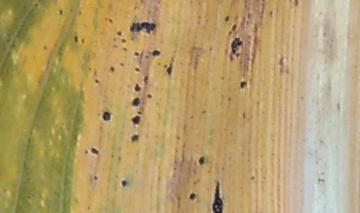tarspot: (130, 20, 156, 35), (212, 180, 223, 213), (231, 36, 241, 53), (131, 115, 141, 126), (102, 111, 111, 122), (166, 62, 173, 75), (131, 97, 140, 107), (130, 133, 139, 142), (151, 49, 161, 57), (188, 192, 196, 201), (133, 83, 141, 92), (239, 79, 247, 88), (198, 156, 205, 165), (108, 64, 115, 73), (267, 10, 274, 19), (107, 16, 114, 24), (41, 44, 49, 51), (143, 75, 149, 84), (231, 23, 237, 32), (57, 8, 64, 15), (118, 60, 125, 67), (249, 174, 256, 181), (292, 1, 299, 8), (91, 148, 99, 154), (234, 52, 242, 58), (73, 35, 79, 43), (80, 36, 86, 44), (121, 180, 127, 187), (136, 109, 142, 116), (83, 148, 89, 155), (133, 51, 140, 57), (122, 45, 128, 52), (77, 9, 83, 16), (133, 67, 141, 72), (224, 14, 229, 22), (119, 38, 127, 43), (94, 78, 100, 84), (144, 53, 150, 59), (110, 44, 119, 48), (93, 174, 98, 181), (147, 94, 153, 99), (117, 30, 122, 36), (34, 2, 39, 8), (112, 37, 118, 42), (87, 66, 92, 71), (130, 37, 135, 42), (164, 65, 168, 68)
